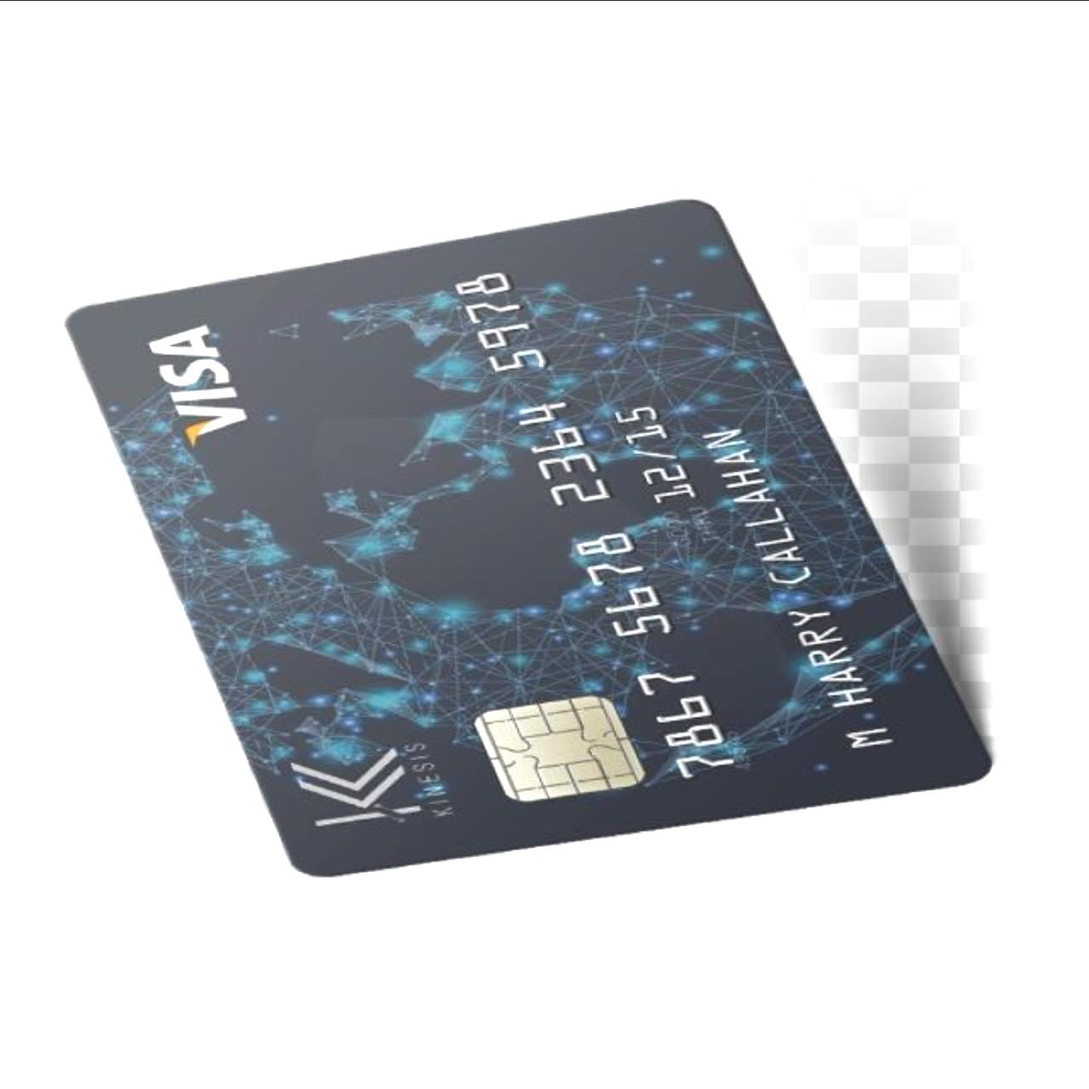credit_card: (59, 195, 997, 878)
